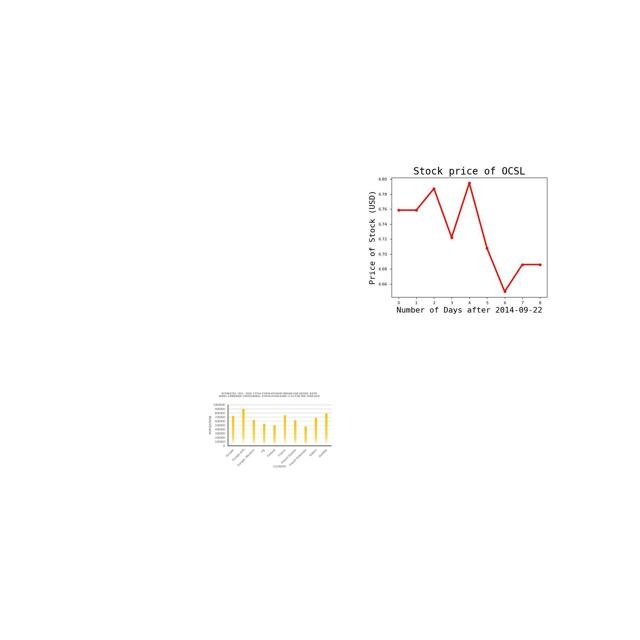Graph: (354, 159, 579, 314), (204, 390, 334, 468)
